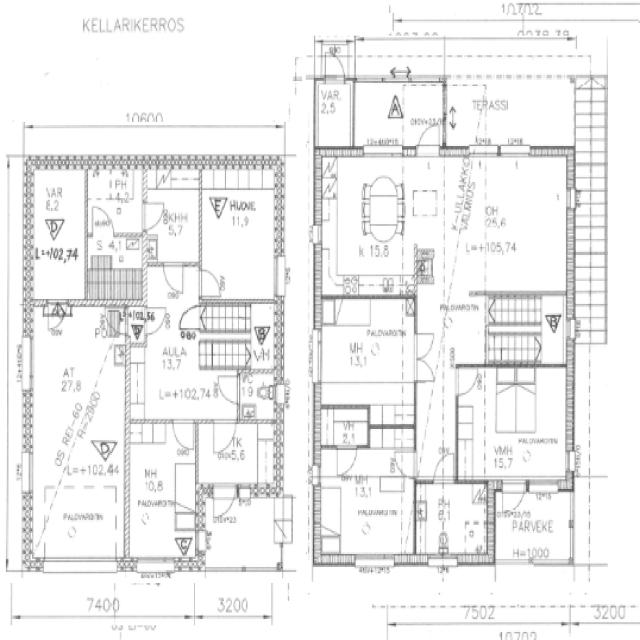door: (412, 327, 438, 386), (498, 478, 528, 517), (210, 482, 238, 522), (210, 416, 238, 456), (452, 362, 482, 399), (196, 265, 225, 300), (432, 448, 458, 486), (215, 370, 242, 406), (171, 417, 197, 453), (415, 121, 442, 155), (334, 443, 359, 479), (162, 259, 186, 296), (140, 198, 166, 232), (89, 202, 115, 235), (392, 448, 420, 478), (177, 302, 202, 332), (323, 53, 347, 84), (145, 306, 168, 338), (47, 297, 67, 331)
window: (40, 555, 115, 574), (211, 561, 276, 576), (23, 329, 37, 396), (310, 325, 325, 387), (353, 551, 399, 571), (358, 143, 404, 161), (21, 444, 36, 498), (526, 475, 564, 496), (135, 555, 175, 573), (272, 250, 286, 301), (469, 138, 500, 160), (496, 143, 534, 160), (530, 555, 569, 570), (494, 554, 533, 569), (428, 554, 461, 568), (355, 72, 389, 84), (564, 446, 578, 475), (564, 184, 578, 213), (310, 220, 324, 246)
zone: (320, 154, 573, 292), (30, 307, 128, 477), (455, 363, 572, 483), (317, 295, 417, 415), (315, 442, 415, 562), (199, 170, 280, 302), (125, 421, 198, 563), (29, 165, 88, 304), (31, 478, 122, 565), (483, 76, 576, 151), (490, 487, 574, 565), (201, 492, 284, 570), (352, 80, 445, 148), (414, 482, 492, 560), (194, 422, 278, 491), (143, 171, 201, 265), (86, 166, 144, 236), (86, 234, 144, 303), (445, 80, 486, 150), (315, 78, 354, 148), (316, 405, 371, 447), (238, 368, 277, 422), (250, 304, 279, 372), (122, 303, 148, 347)
